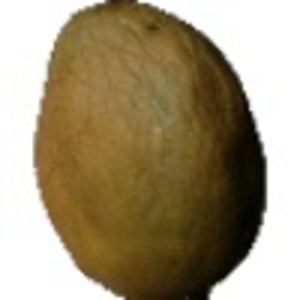mamão: (27, 1, 273, 294)
